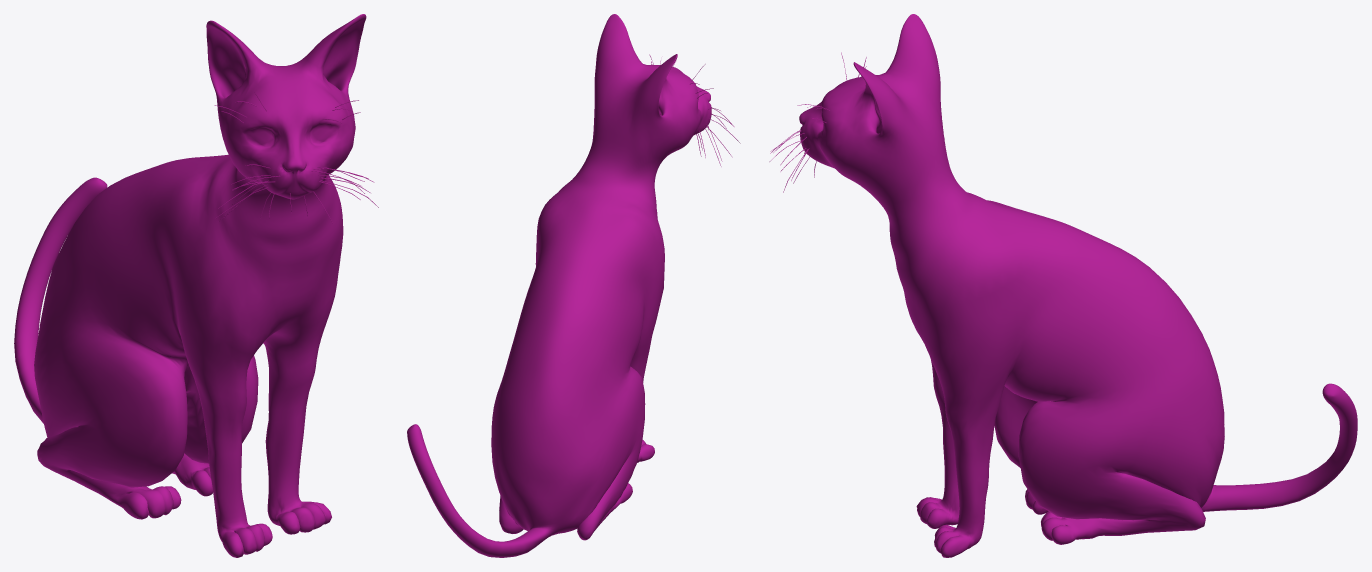
The model's file is cat.obj.
3 renders of one model, left to right at view 1: azimuth 30°, elevation 25°; view 2: azimuth 150°, elevation 25°; view 3: azimuth 270°, elevation 25°, orthographic. The views are drawn at different scales.
Visible parts, largest first — view 1: 059_Vray; view 2: 059_Vray; view 3: 059_Vray.
Boxes of the visible parts, x1,y1,x2,y2 form: 059_Vray: [14, 14, 378, 557]; 059_Vray: [407, 14, 740, 557]; 059_Vray: [769, 14, 1357, 557].
Bounding box in the file's own units: 243 × 668 × 725.
